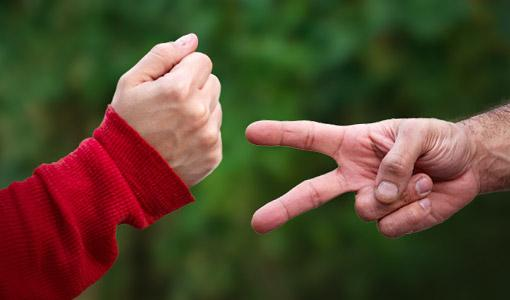rock: (94, 29, 232, 199)
scissors: (240, 93, 477, 252)
